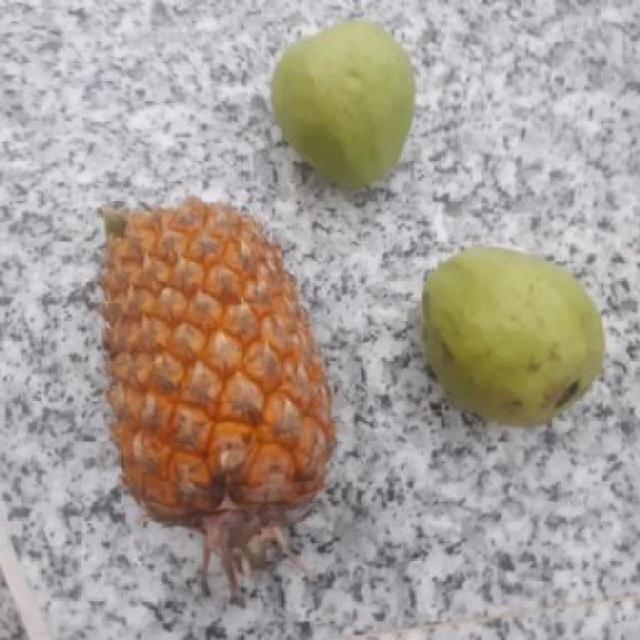guava: (411, 242, 604, 424), (264, 22, 418, 184)
pineapple: (91, 189, 331, 523)
